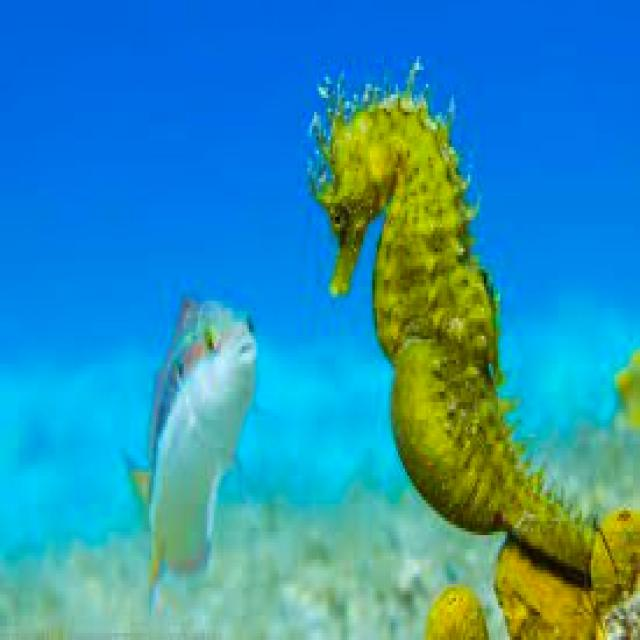seahorse: (310, 63, 638, 637)
